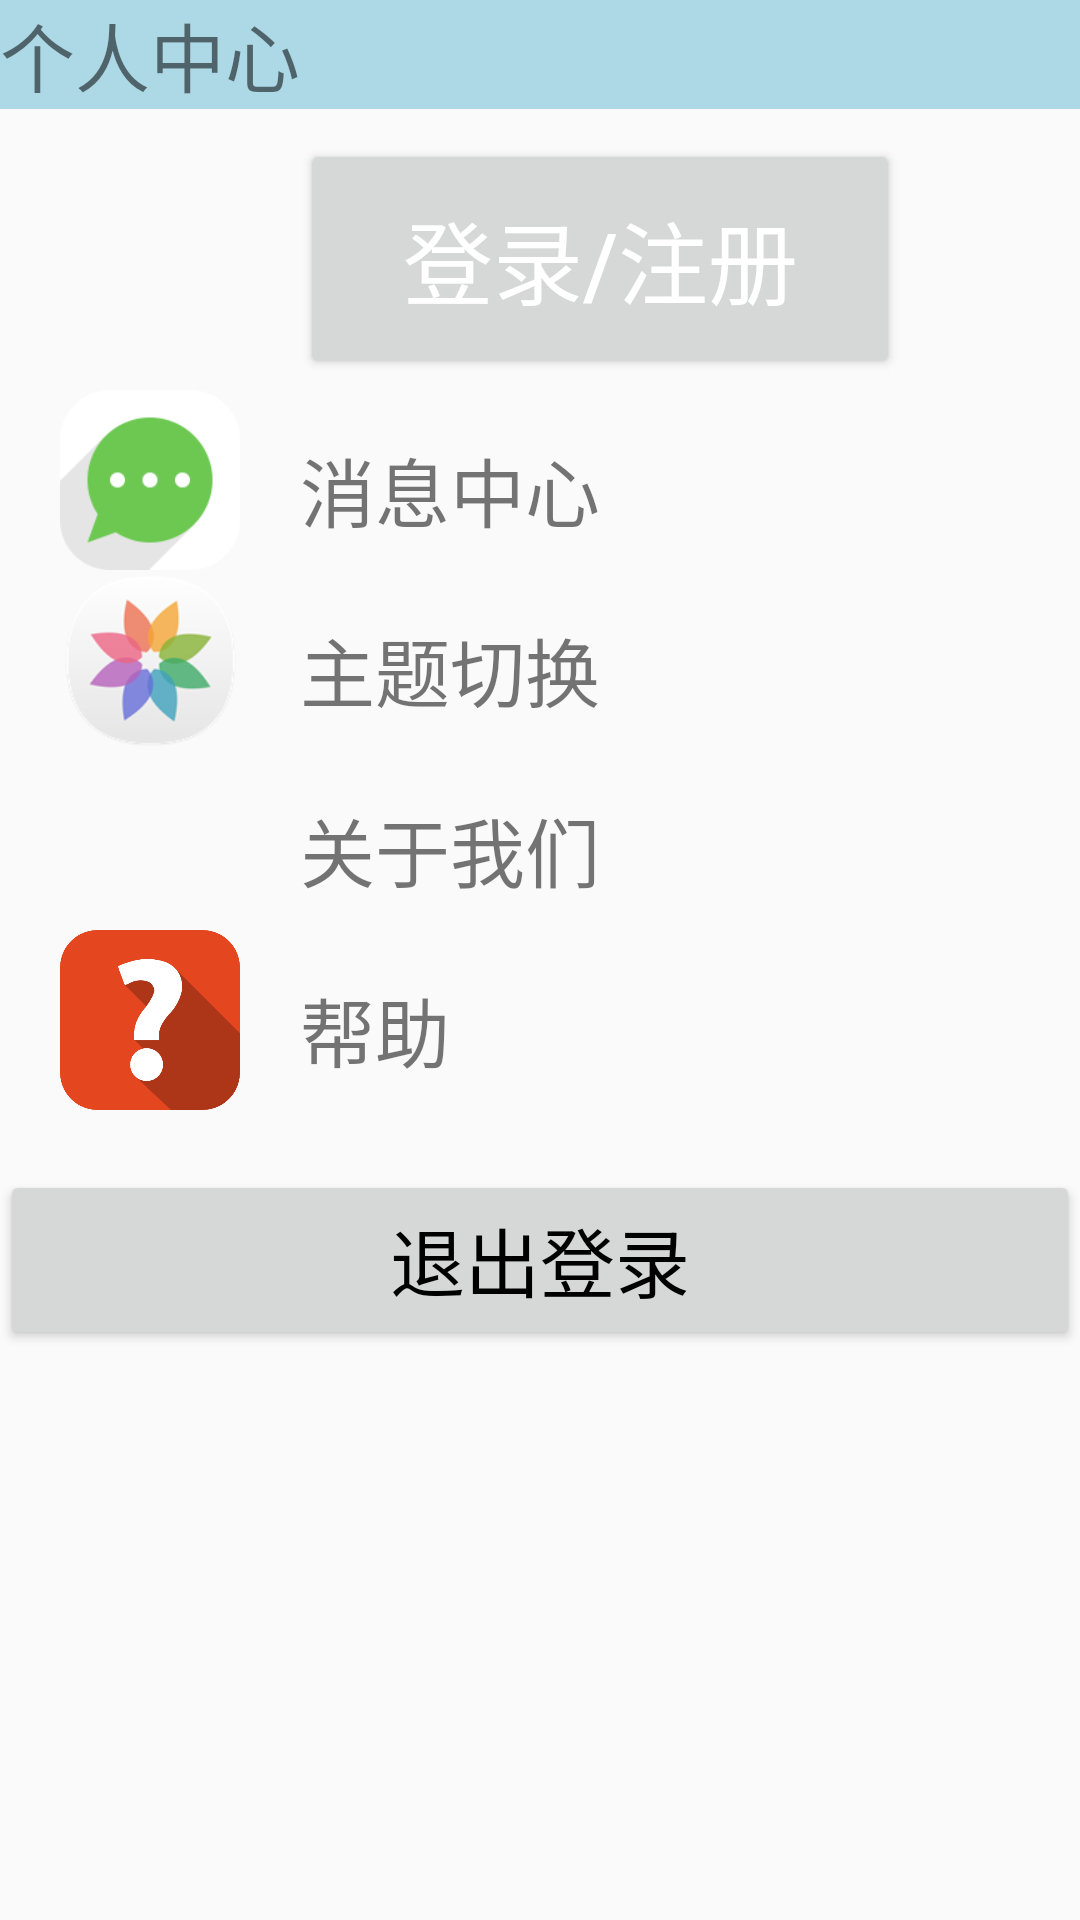

Named icons in this screenshot (1080px×1920px) and their centers, (x,y):
help: (150,1020)
message: (150,480)
